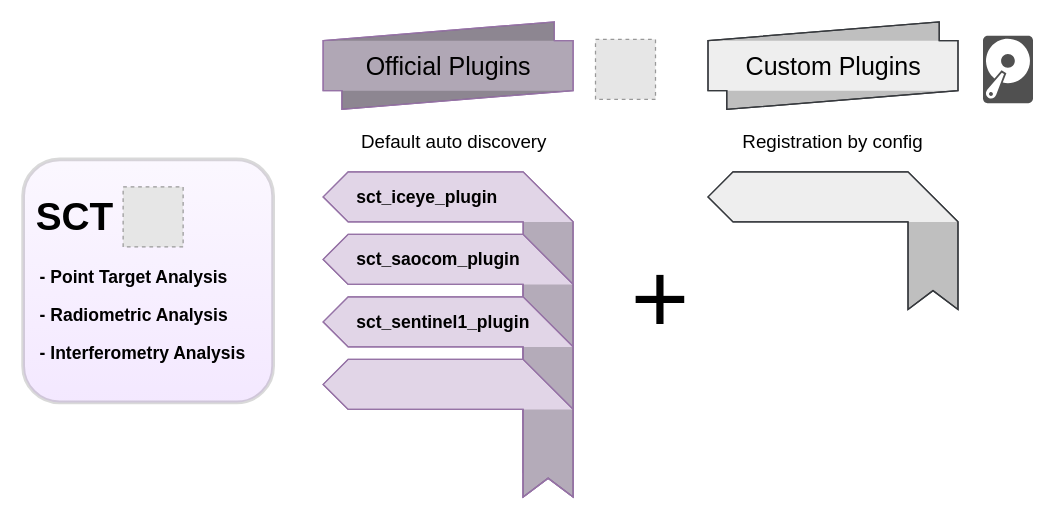
Some shapes in this 1055 by 519 pixel diagram are drawn without their labels. Grey dashed boxes stand in for pictures. Each missing label, with the centre of its shape:
sct_novasar1_plugin: the point at 447,427
user developed plugins: the point at 832,240
